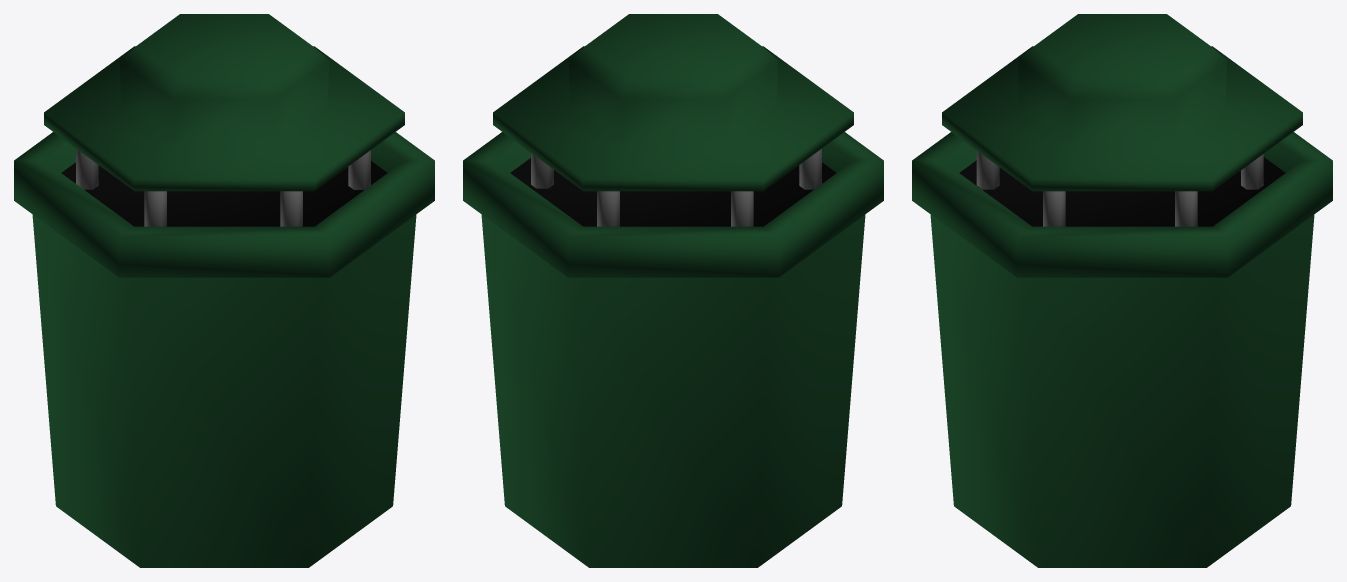
Rendered from TrashCanblend.fbx.
The picture shows the model from 3 angles, left to right: view 1: azimuth 30°, elevation 25°; view 2: azimuth 150°, elevation 25°; view 3: azimuth 270°, elevation 25°; orthographic projection.
Parts seen in each view (by area): view 1: Cylinder; view 2: Cylinder; view 3: Cylinder.
Boxes of the visible parts, left/top/right/bottom form: Cylinder: left=14, top=14, right=434, bottom=567; Cylinder: left=463, top=14, right=883, bottom=567; Cylinder: left=912, top=14, right=1332, bottom=567.
Bounding box in the file's own units: 2.16 × 3.01 × 2.5.
